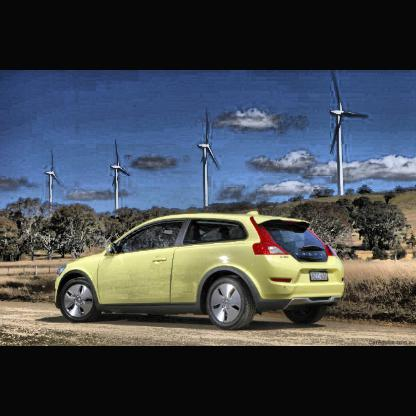Volvo C30 Hatchback 2012: (51, 206, 349, 334)
